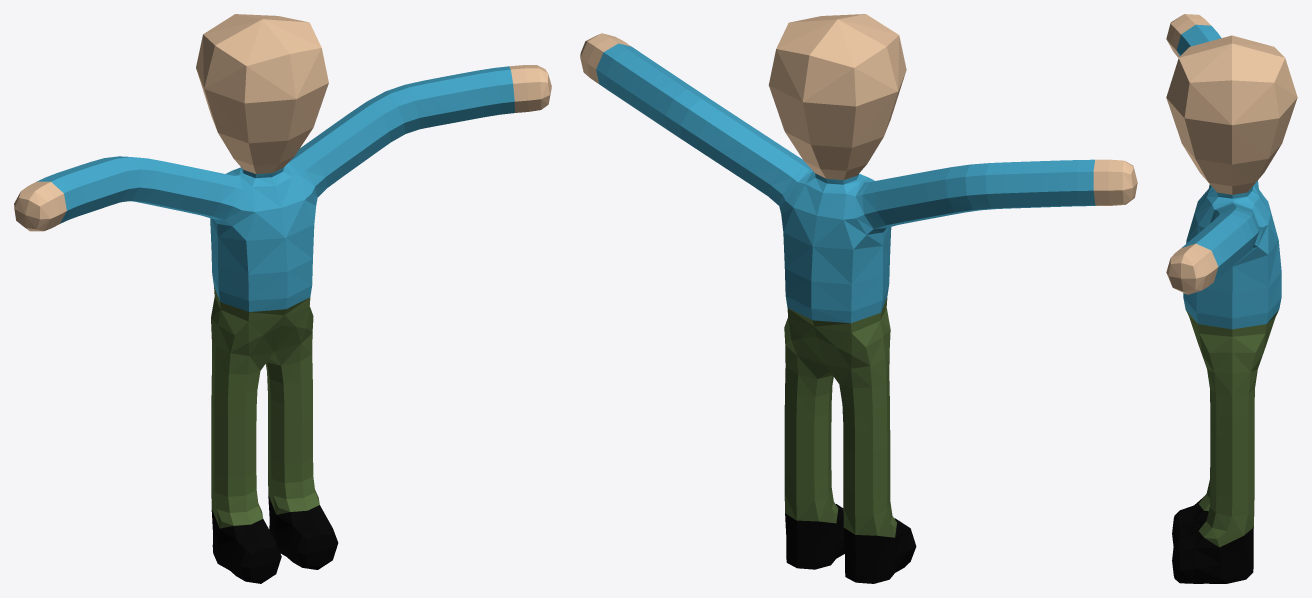
File: main_character.glb
3 views of the same model, side by side, from view 1: azimuth 30°, elevation 25°; view 2: azimuth 150°, elevation 25°; view 3: azimuth 270°, elevation 25° (orthographic). The views are drawn at different scales.
Parts seen in each view (by area): view 1: Plane; view 2: Plane; view 3: Plane.
Boxes of the visible parts, x1=… form: Plane: x1=14, y1=14, x2=551, y2=583; Plane: x1=580, y1=14, x2=1137, y2=583; Plane: x1=1166, y1=14, x2=1297, y2=583.
Bounding box in the file's own units: 14.84 × 14.32 × 3.25.
